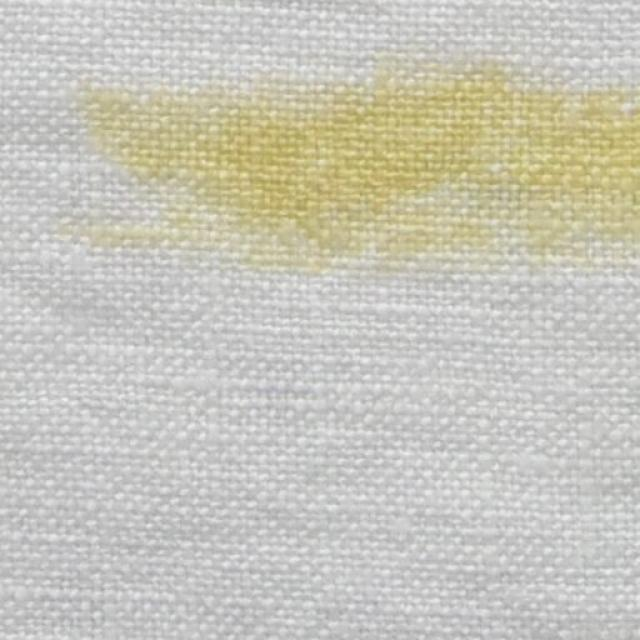Stain: (82, 59, 640, 269)
